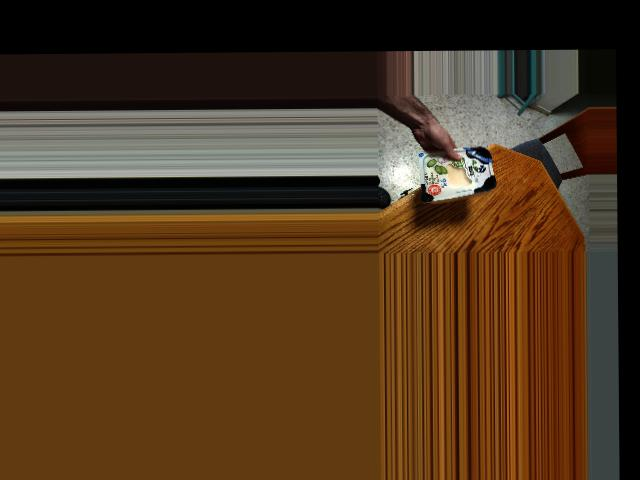cheese: (424, 149, 494, 193)
